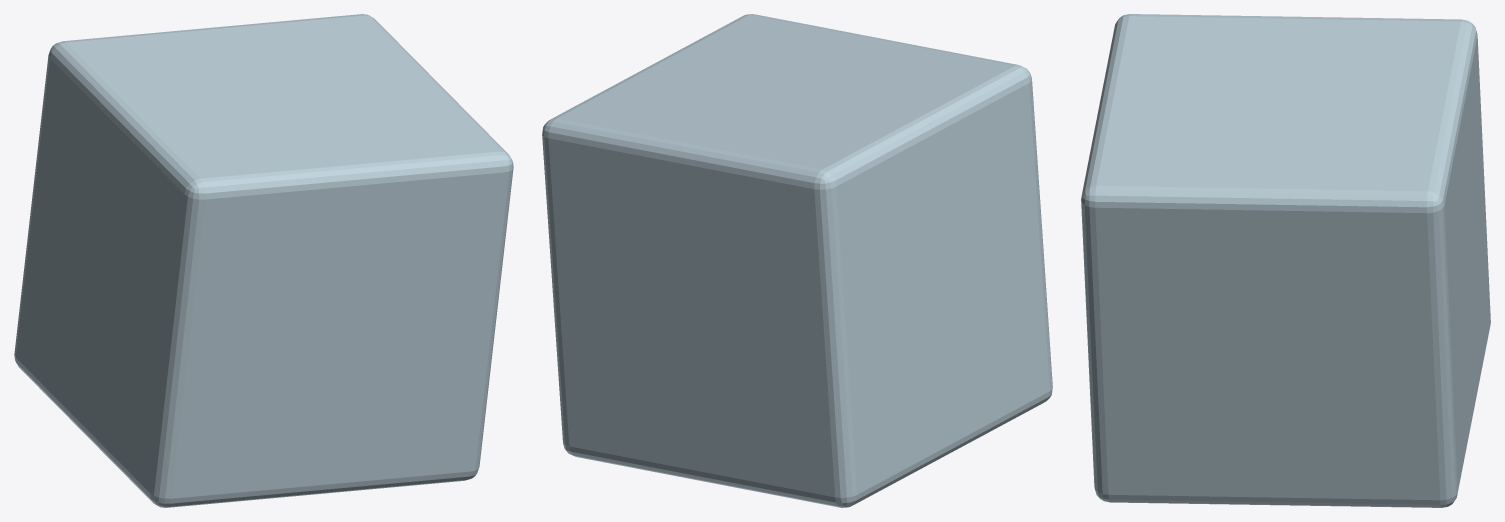
The model's file is glass_cubes_design_plasma.glb.
3 renders of one model, left to right at view 1: azimuth 30°, elevation 25°; view 2: azimuth 150°, elevation 25°; view 3: azimuth 270°, elevation 25°, orthographic.
Parts seen in each view (by area): view 1: GlassCube_Plasma; view 2: GlassCube_Plasma; view 3: GlassCube_Plasma.
Boxes of the visible parts, <box> form: GlassCube_Plasma: <box>14,14,513,507</box>; GlassCube_Plasma: <box>542,14,1052,507</box>; GlassCube_Plasma: <box>1081,14,1490,507</box>.
Bounding box in the file's own units: 2.81 × 2.67 × 2.69.
